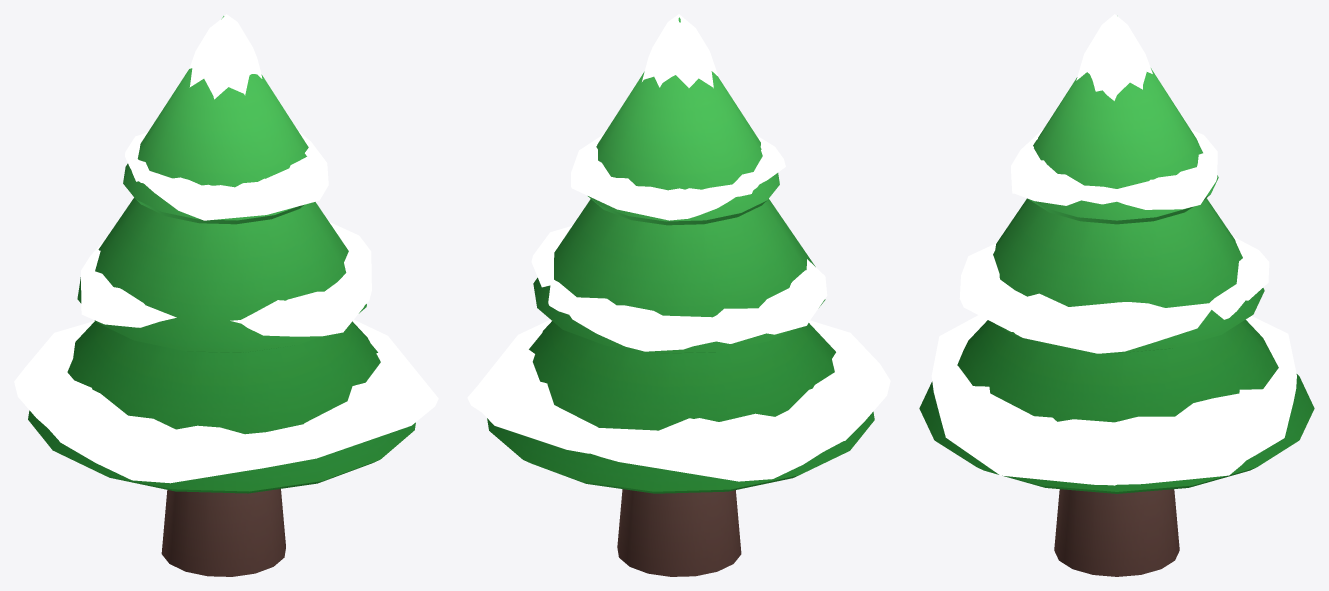
The model's file is fir_001.glb.
The picture shows the model from 3 angles, left to right: view 1: azimuth 30°, elevation 25°; view 2: azimuth 150°, elevation 25°; view 3: azimuth 270°, elevation 25°; orthographic projection.
Parts seen in each view (by area): view 1: fir_001; view 2: fir_001; view 3: fir_001.
Part boxes in pixels (left/top/right/bottom): fir_001: left=14, top=14, right=438, bottom=576; fir_001: left=467, top=14, right=890, bottom=576; fir_001: left=919, top=14, right=1314, bottom=576.
Size of the model in its own units: 4.19 by 6.29 by 4.19.
2 materials, 2 textured.
